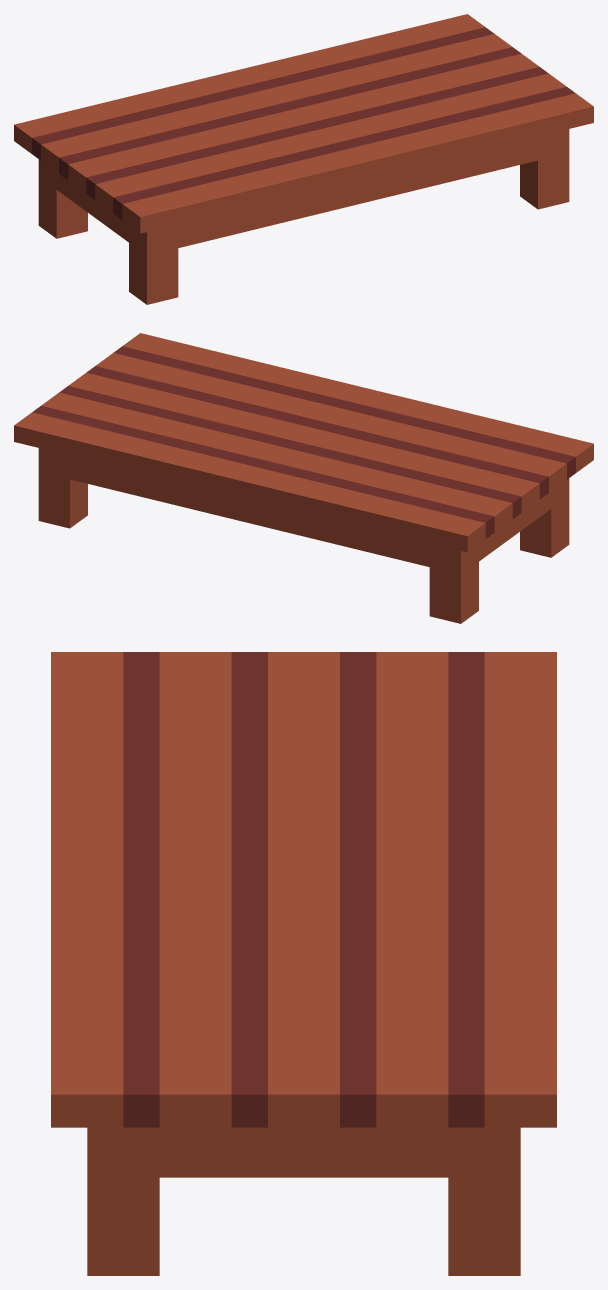
Rendered from large_table_a.obj.
The picture shows the model from 3 angles, top to bottom: view 1: azimuth 30°, elevation 25°; view 2: azimuth 150°, elevation 25°; view 3: azimuth 270°, elevation 25°; orthographic projection. The views are drawn at different scales.
Bounding box in the file's own units: 2.9 × 0.6 × 1.4.
1 material, 1 textured.
